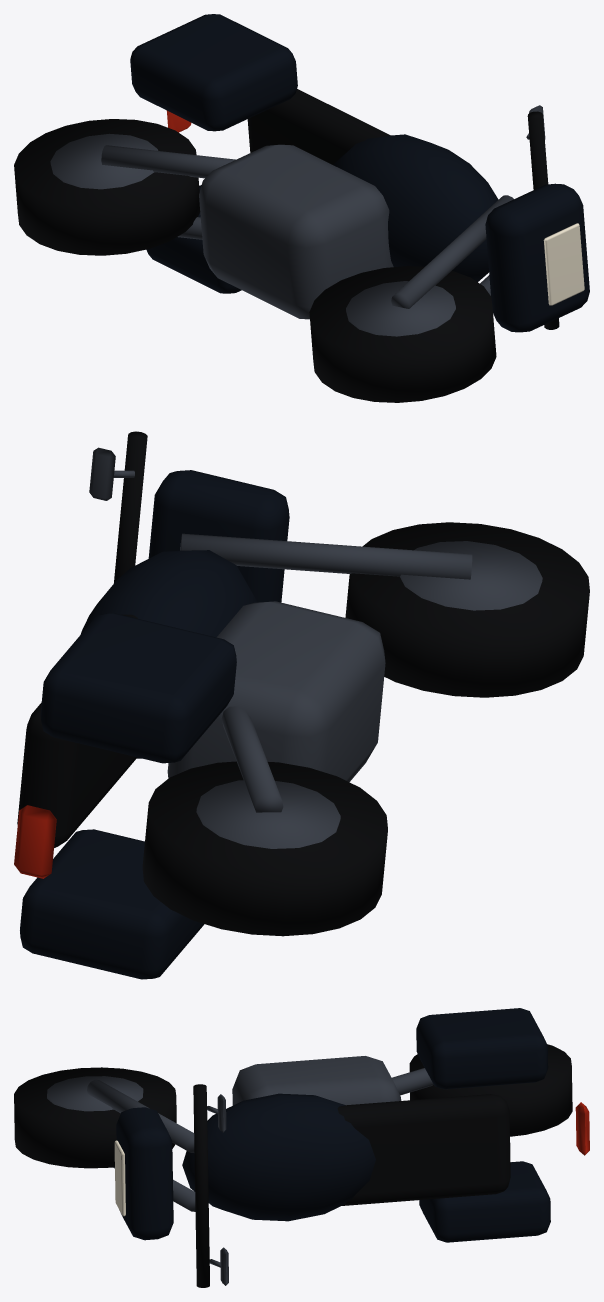
Rendered from bike-slide.glb.
3 views of the same model, one above another, from view 1: azimuth 30°, elevation 25°; view 2: azimuth 150°, elevation 25°; view 3: azimuth 270°, elevation 25° (orthographic). The views are drawn at different scales.
Parts seen in each view (by area): view 1: brav-m-motorbike; view 2: brav-m-motorbike; view 3: brav-m-motorbike.
Boxes of the visible parts, bbox=[...] form: brav-m-motorbike: bbox=[14, 14, 589, 402]; brav-m-motorbike: bbox=[14, 431, 589, 979]; brav-m-motorbike: bbox=[14, 1008, 589, 1287].
Bounding box in the file's own units: 1.43 × 0.8348 × 2.12.
Materials: 1 (1 with a texture image).
